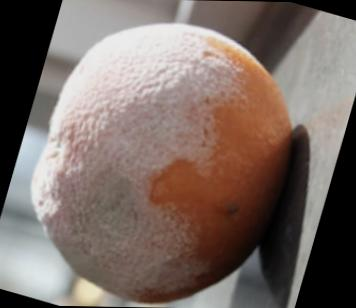Orange Rotten: (23, 18, 304, 308)
